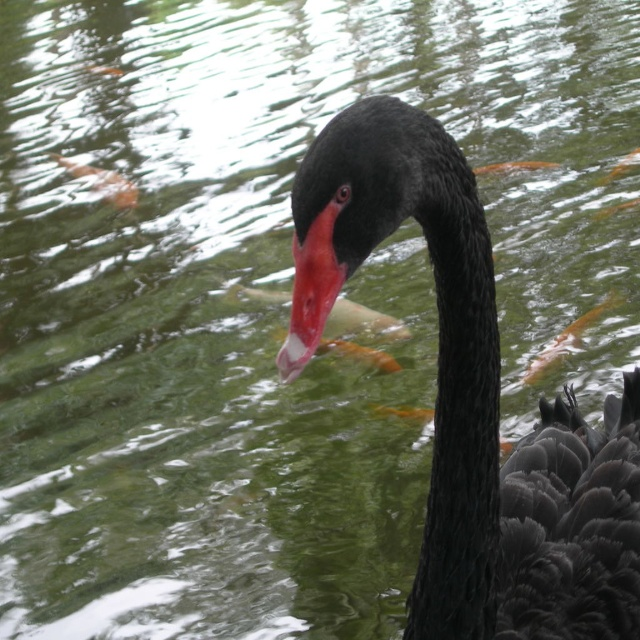Swan: (275, 94, 640, 640)
